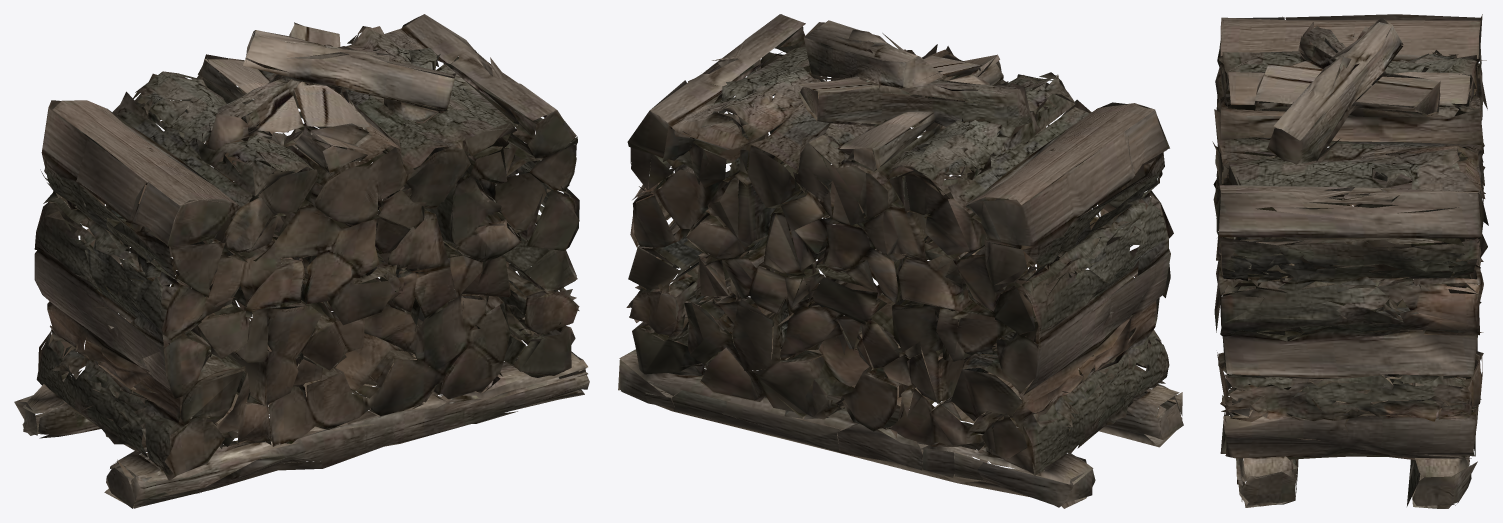
Rendered from firewood-stack-interior-lod.glb.
3 views of the same model, side by side, from view 1: azimuth 30°, elevation 25°; view 2: azimuth 150°, elevation 25°; view 3: azimuth 270°, elevation 25° (orthographic). The views are drawn at different scales.
Parts seen in each view (by area): view 1: Mesh_0; view 2: Mesh_0; view 3: Mesh_0.
Part boxes in pixels (left/top/right/bottom): Mesh_0: left=14, top=14, right=589, bottom=508; Mesh_0: left=618, top=14, right=1183, bottom=508; Mesh_0: left=1212, top=14, right=1488, bottom=508.
Bounding box in the file's own units: 1.92 × 1.49 × 1.01.
1 material, 1 textured.
